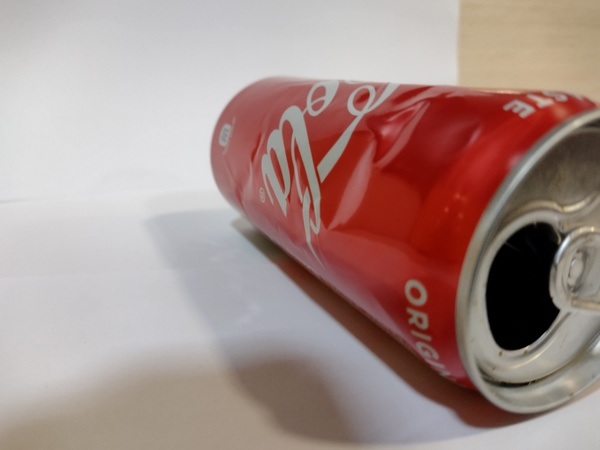can: (208, 71, 598, 422)
